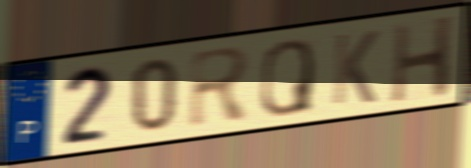0: (128, 56, 182, 135)
2: (58, 59, 118, 151)
H: (388, 12, 457, 106)
K: (329, 28, 382, 109)
Q: (257, 36, 315, 119)
R: (186, 43, 254, 132)
